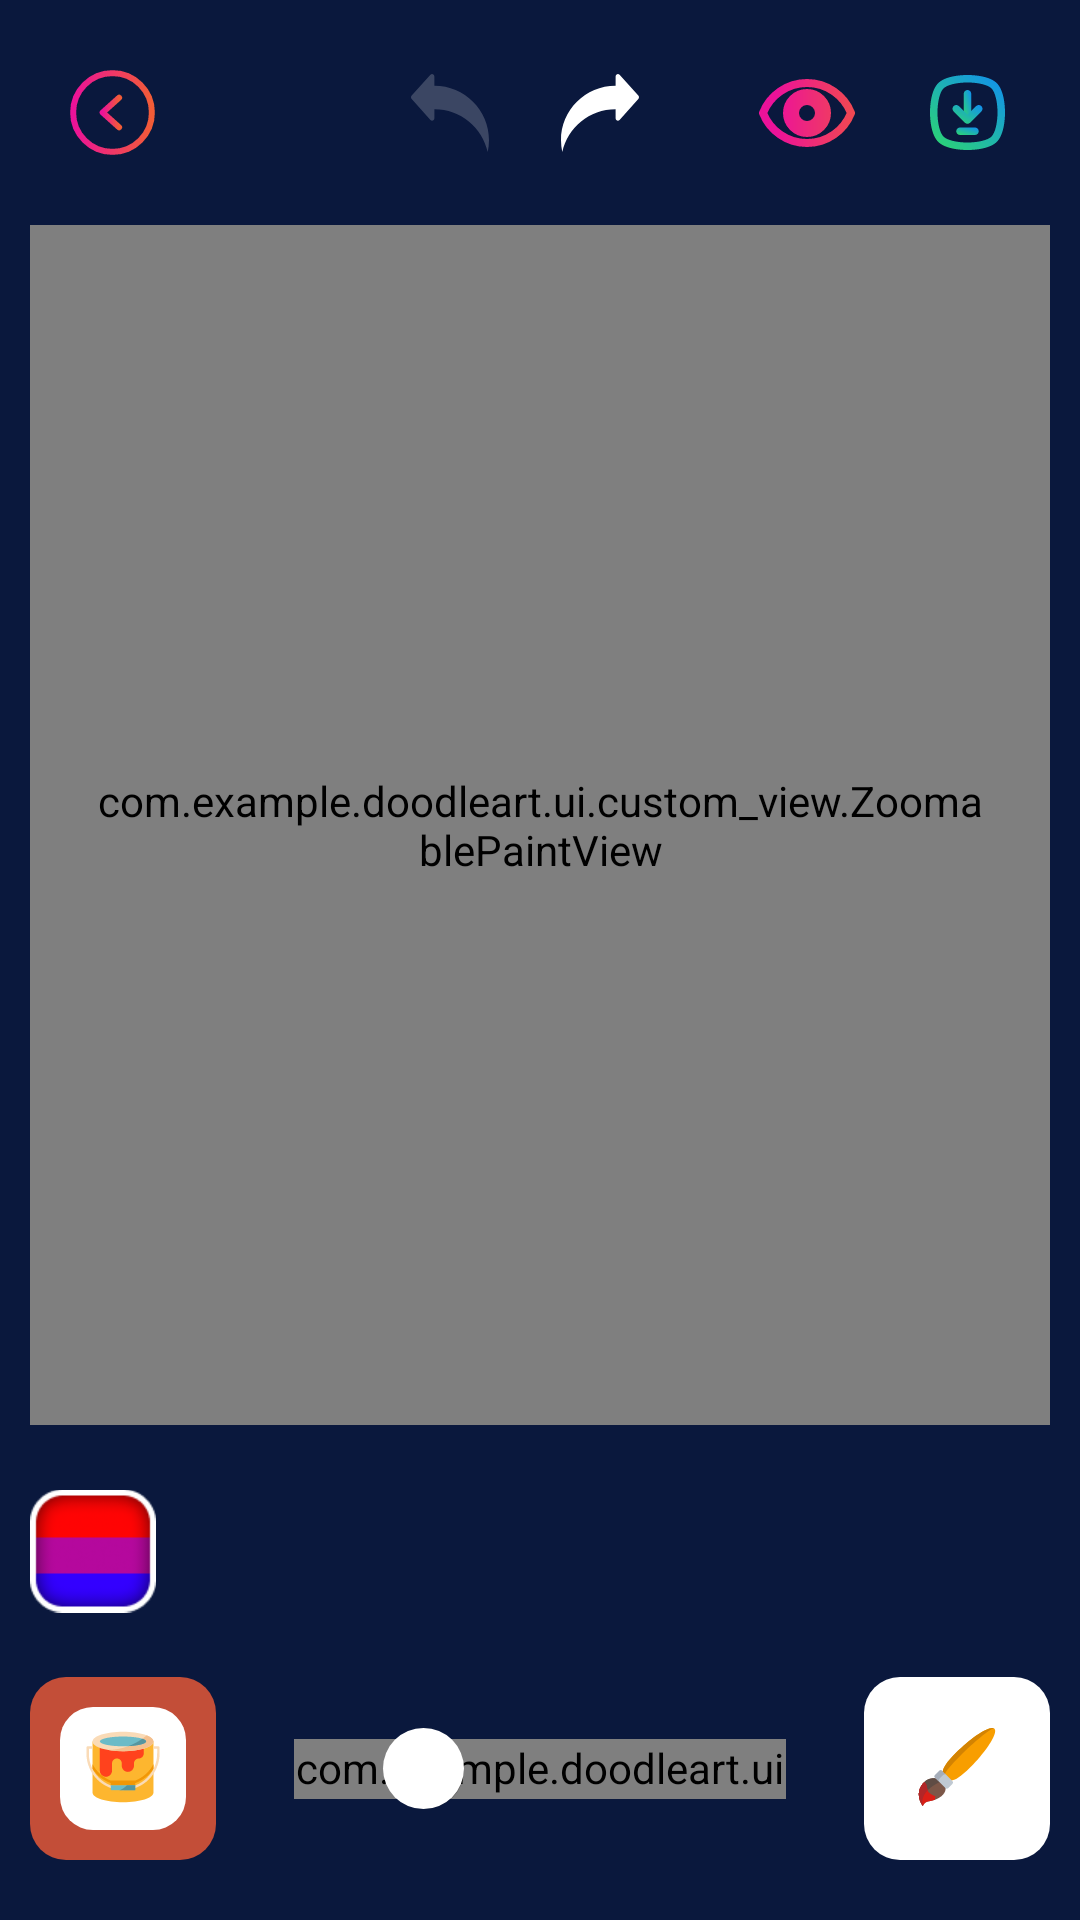

Locate icon controls on the screen. Image size 1080*1920, boxes as (x1, y1, x2, y2).
back: (70, 70, 155, 155)
brush: (864, 1677, 1050, 1860)
floodfill: (30, 1677, 216, 1860)
save: (930, 75, 1005, 150)
undo left: (411, 74, 489, 151)
